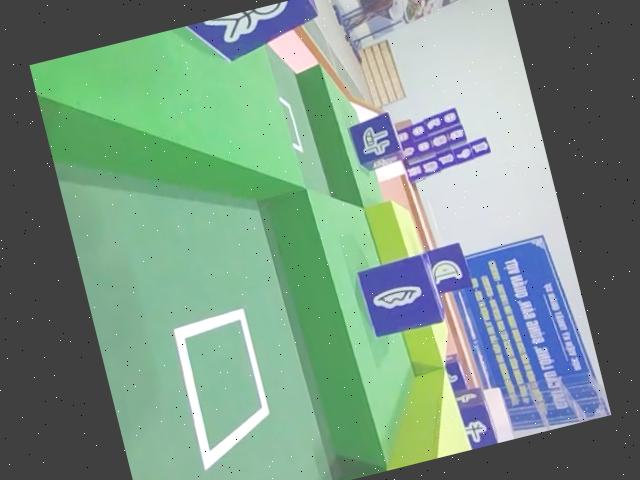R2 Real Blue: (162, 0, 320, 73), (354, 250, 449, 342), (345, 110, 406, 174), (421, 242, 474, 299), (452, 387, 497, 451)
